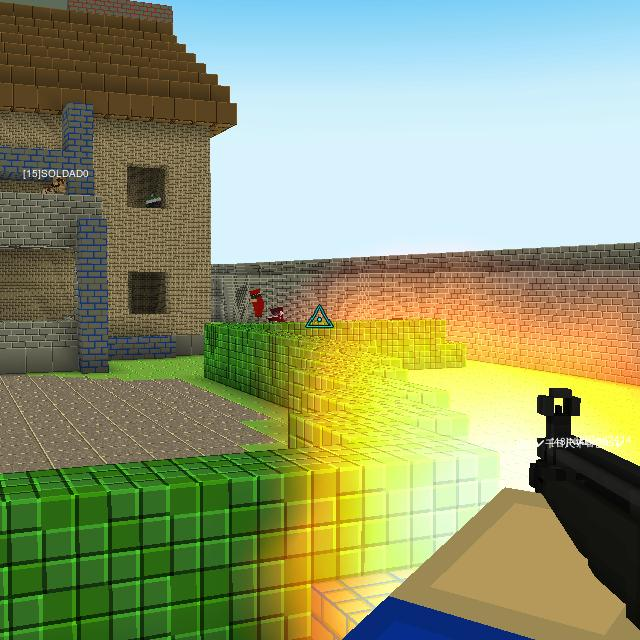enemy: (249, 288, 265, 317), (265, 305, 286, 323)
